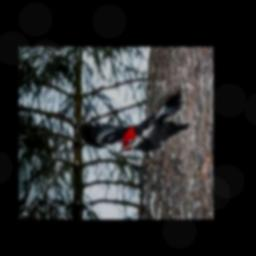Woodpecker: (76, 84, 189, 156)
